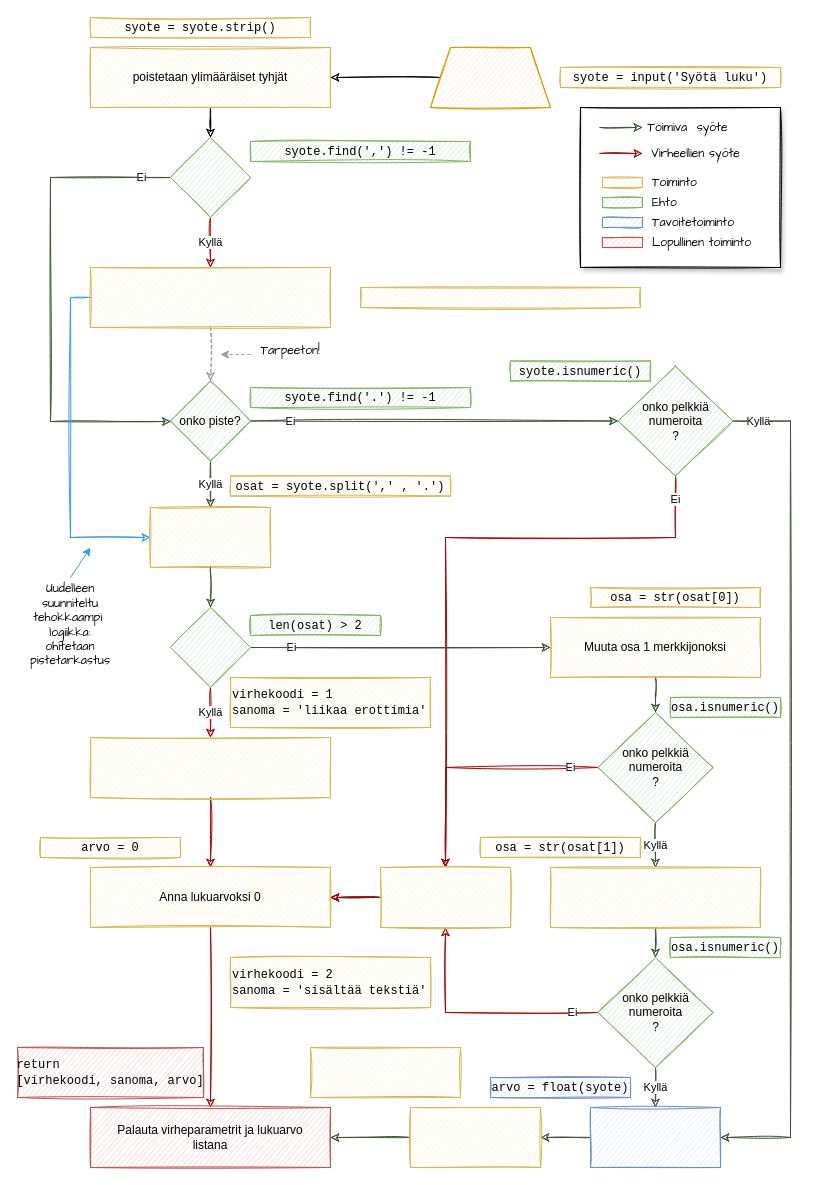
Some shapes in this 816 by 1185 pixel diagram are drawn without their labels. The shapes that lost their labels are listed below. From the top down, each one's centre as x and y in pixels, then its label:
At (x=490, y=77): "Syöte".
At (x=210, y=177): "onko pilkku?".
At (x=210, y=297): "Muutetaan pilkku pisteeksi".
At (x=500, y=297): "syote = syote.replace(',' , '.')".
At (x=210, y=537): "Jaa merkkijono pisteen kohdalta".
At (x=210, y=647): "osia >2 ?".
At (x=210, y=767): "Aseta virhekoodi = 1 Aseta virheilmoitus".
At (x=445, y=897): "Aseta virhekoodi = 2 Aseta virheilmotus".
At (x=655, y=897): "Muuta osa 2 merkkijonoksi".
At (x=385, y=1072): "virhekoodi = 0 sanoma = 'syöte OK'".
At (x=475, y=1137): "Aseta virhekoodi = 0 Aseta virheilmotus".
At (x=655, y=1137): "Muuta liukuluvuksi".
